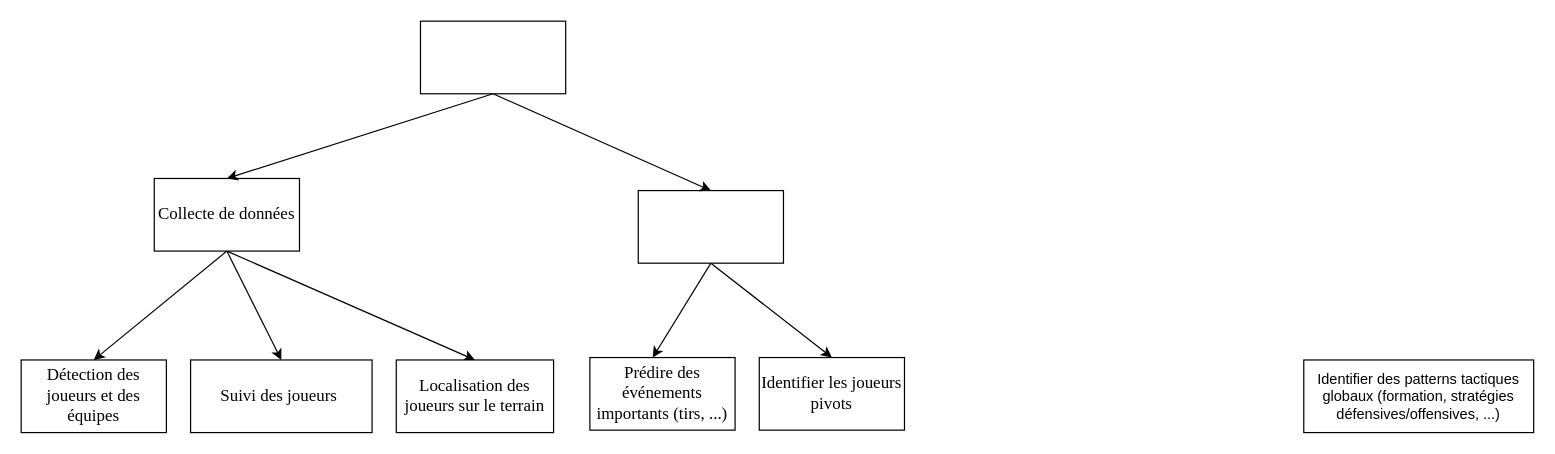
Some shapes in this 1555 by 454 pixel diagram are drawn without their labels. The centre of each missing label's shape, as x and y in pixels:
Système TactIAque: point (492, 57)
Traitement de données: point (710, 226)
